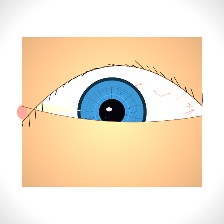pterygium_lesion: (20, 85, 89, 139)
